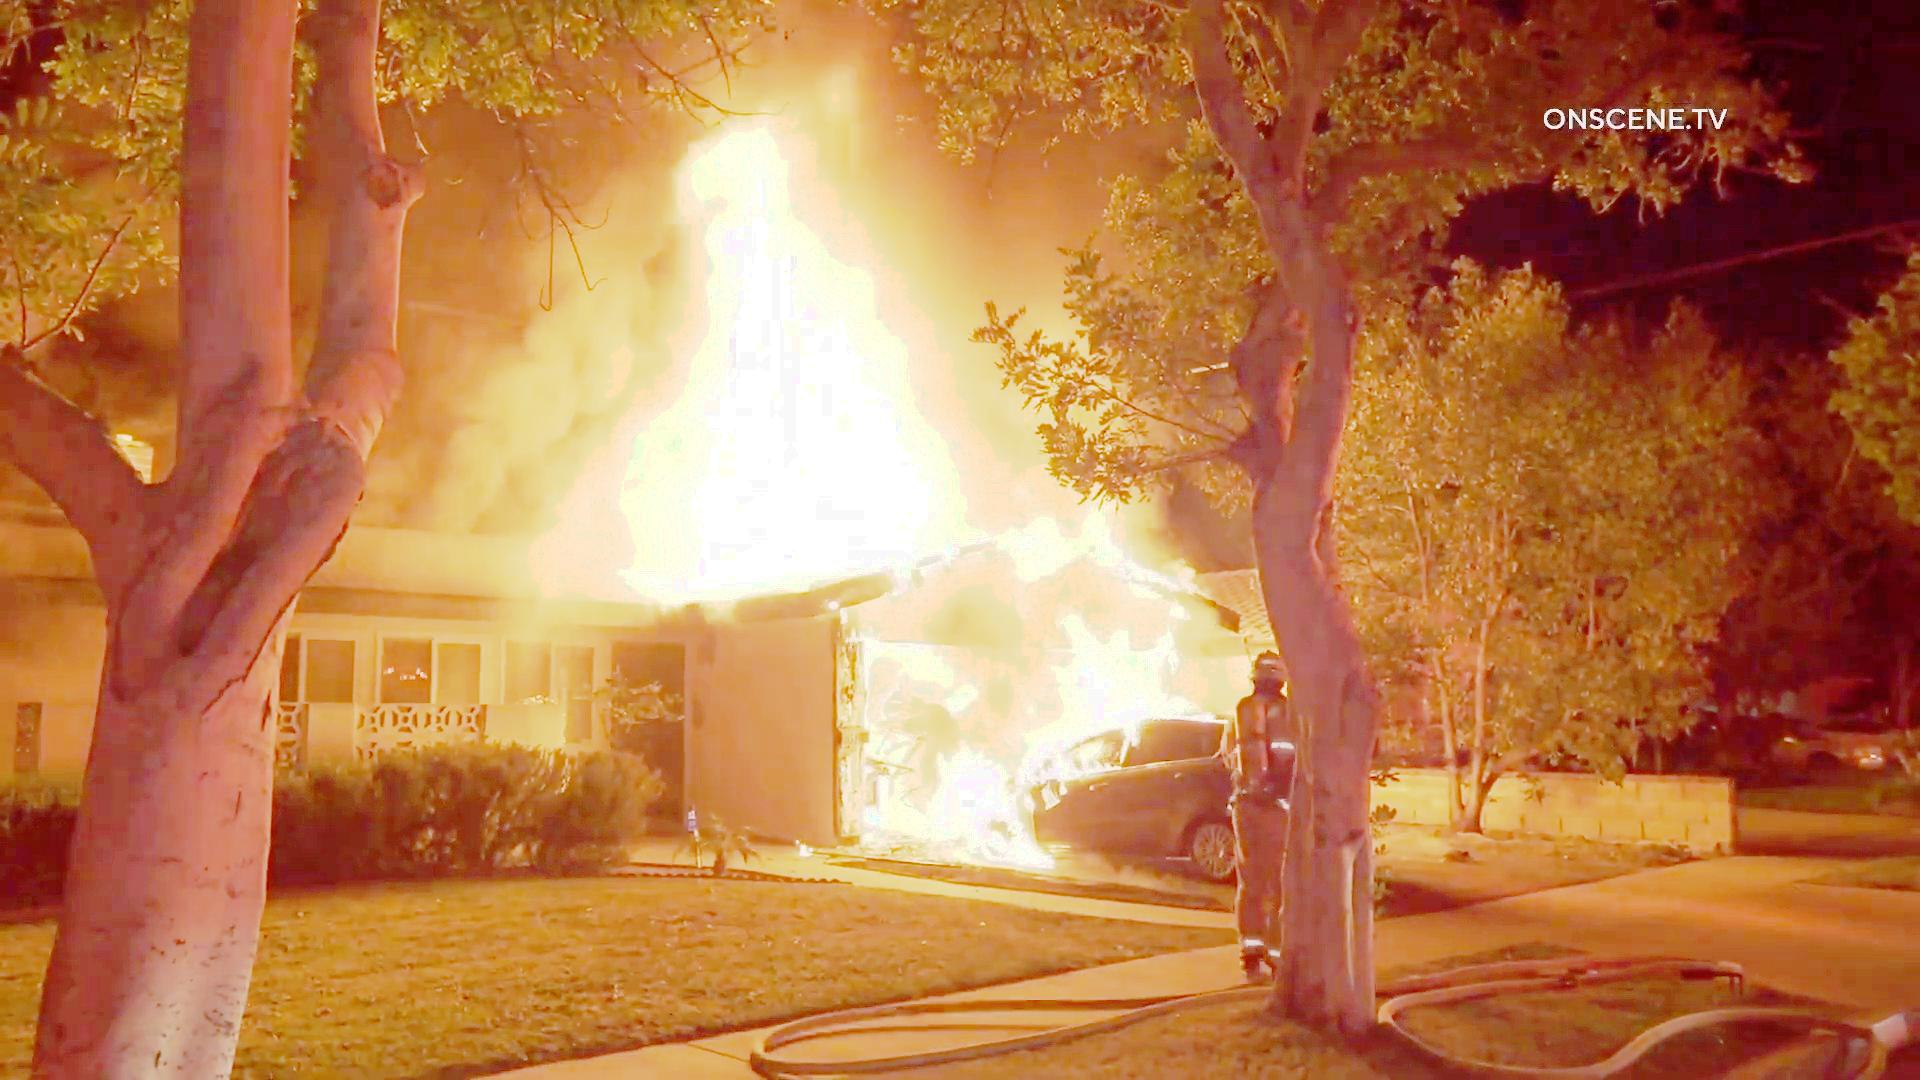fire: (579, 34, 975, 607), (965, 531, 1233, 716), (853, 622, 1011, 860)
smoke: (351, 203, 562, 592)
